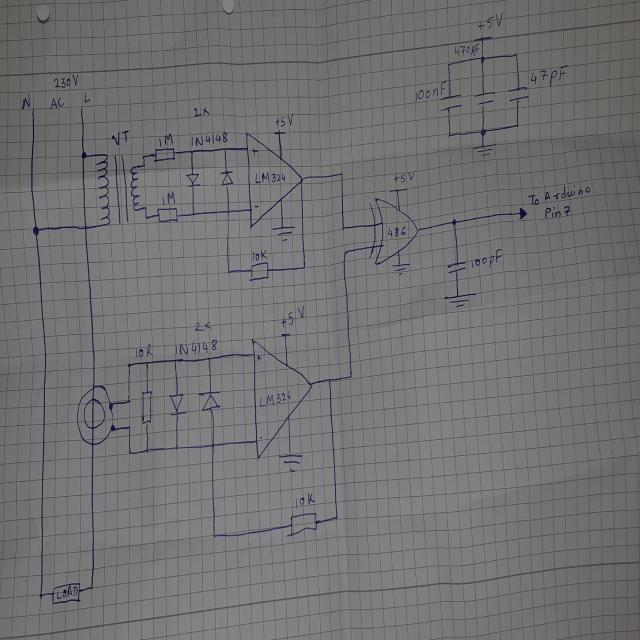capacitor: (436, 92, 462, 114), (505, 83, 529, 105), (473, 88, 497, 109), (446, 258, 467, 274)
crossover: (84, 223, 88, 231)
diode: (198, 387, 220, 417), (168, 392, 188, 419), (219, 168, 234, 187), (185, 172, 200, 188)
ground: (444, 291, 477, 309), (279, 452, 303, 472), (273, 224, 296, 243), (473, 142, 496, 159), (392, 262, 411, 278)
inductor: (77, 383, 118, 447)
junction: (32, 225, 39, 238), (479, 126, 487, 137), (80, 150, 87, 160), (479, 54, 486, 64), (88, 582, 95, 592), (451, 217, 457, 227), (38, 590, 44, 600), (342, 248, 348, 257), (326, 376, 332, 385), (210, 441, 216, 450), (226, 208, 232, 217), (108, 402, 114, 411), (191, 209, 196, 219), (514, 121, 520, 129), (126, 424, 132, 432), (189, 148, 195, 156), (144, 446, 150, 454), (126, 361, 132, 369), (222, 145, 228, 153), (341, 223, 346, 232), (334, 514, 339, 522), (348, 372, 353, 380), (126, 396, 131, 404), (127, 448, 132, 456), (446, 61, 451, 69), (174, 444, 179, 452), (447, 131, 452, 138), (226, 268, 231, 275), (144, 214, 149, 221), (144, 359, 149, 366), (206, 355, 211, 362), (111, 424, 116, 431), (212, 531, 216, 539), (302, 263, 306, 271), (173, 359, 178, 365), (514, 51, 518, 58), (339, 170, 343, 177), (142, 153, 146, 159)
resistor: (288, 510, 318, 537), (50, 581, 82, 606), (156, 204, 179, 224), (249, 260, 269, 282), (141, 389, 152, 426), (153, 146, 175, 163)
source: (470, 32, 495, 44), (388, 187, 408, 194), (273, 130, 286, 137), (281, 332, 291, 339)
terminal: (518, 206, 528, 223), (79, 104, 86, 112), (31, 106, 35, 112)
text: (525, 182, 594, 207), (528, 64, 570, 88), (413, 78, 448, 103), (173, 339, 217, 358), (470, 248, 503, 270), (190, 130, 229, 146), (256, 390, 294, 406), (283, 304, 307, 326), (476, 11, 503, 30), (542, 203, 572, 220), (452, 41, 481, 57), (254, 170, 286, 184), (52, 74, 79, 90), (274, 111, 294, 129), (53, 585, 78, 599), (112, 128, 130, 147), (295, 491, 316, 507), (134, 343, 154, 359), (158, 131, 175, 148), (393, 170, 415, 183), (49, 94, 65, 110), (194, 319, 212, 333), (387, 226, 408, 238), (193, 105, 210, 119), (161, 191, 176, 206), (252, 247, 268, 261), (21, 93, 31, 111), (251, 144, 260, 158), (82, 91, 90, 105), (255, 352, 262, 362), (252, 202, 259, 210), (258, 434, 262, 442)
transformer: (94, 152, 140, 227)
